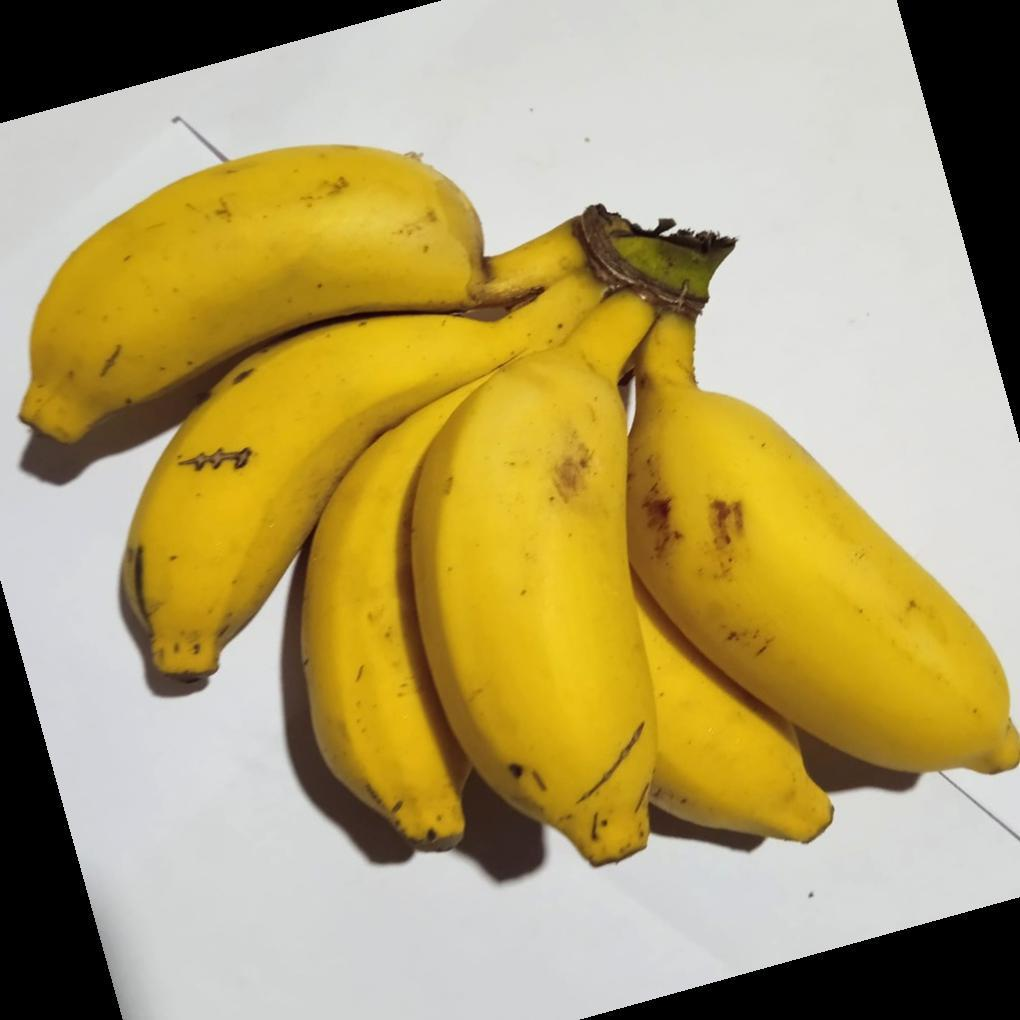Banana Ripe: (58, 126, 1010, 976), (12, 79, 466, 879), (618, 201, 1020, 829), (406, 164, 697, 911)
